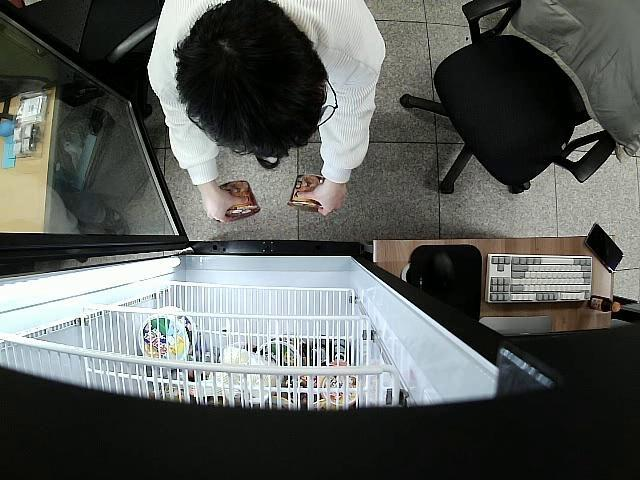05_nuguri_L: (218, 180, 261, 222), (288, 172, 327, 212)
